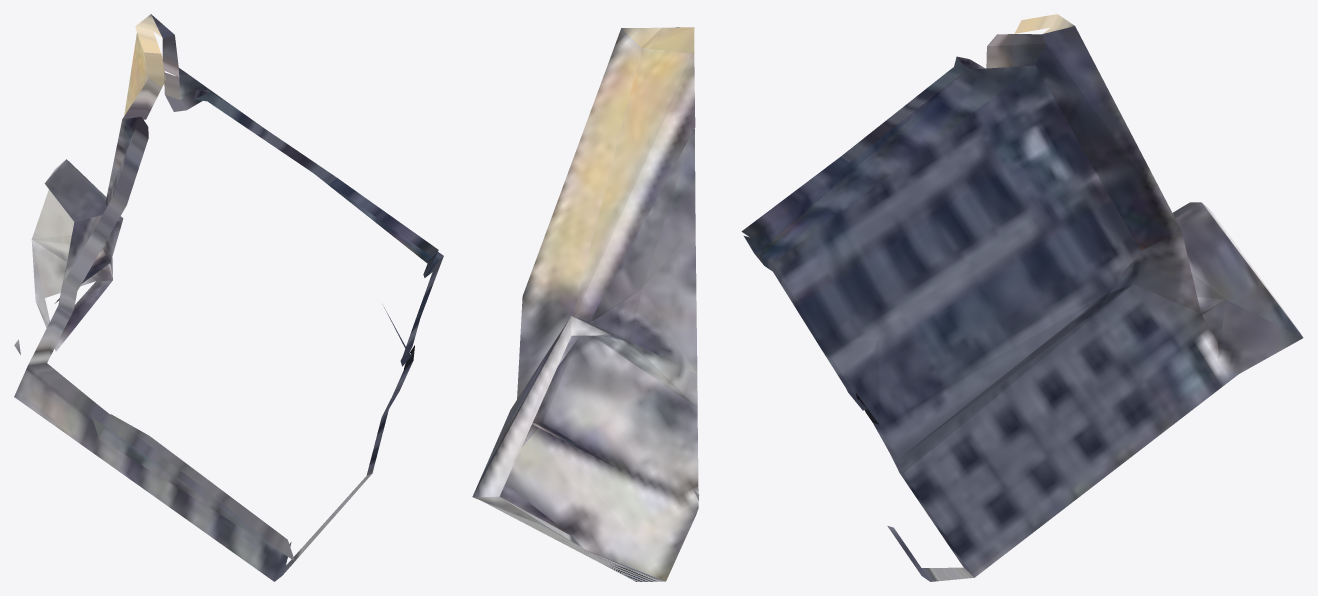
3 views of the same model, side by side, from view 1: azimuth 30°, elevation 25°; view 2: azimuth 150°, elevation 25°; view 3: azimuth 270°, elevation 25° (orthographic). The views are drawn at different scales.
Size of the model in its own units: 17.52 by 32.22 by 31.16.
Materials: 1 (1 with a texture image).
